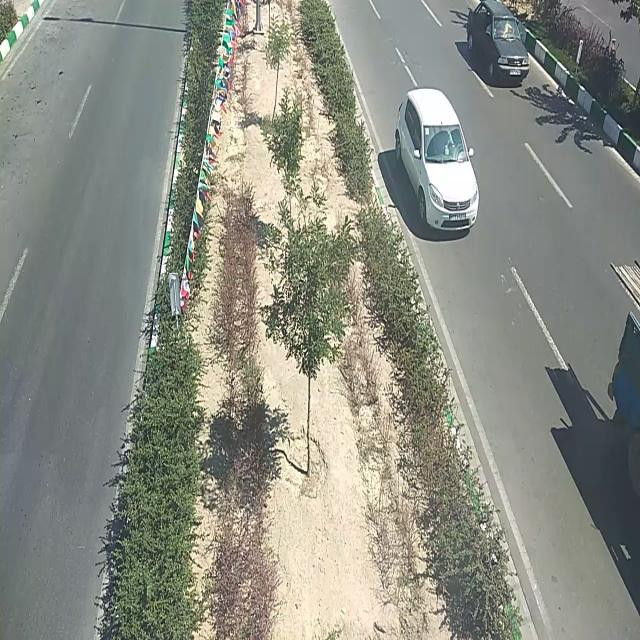car: (395, 88, 478, 238), (466, 0, 530, 86)
